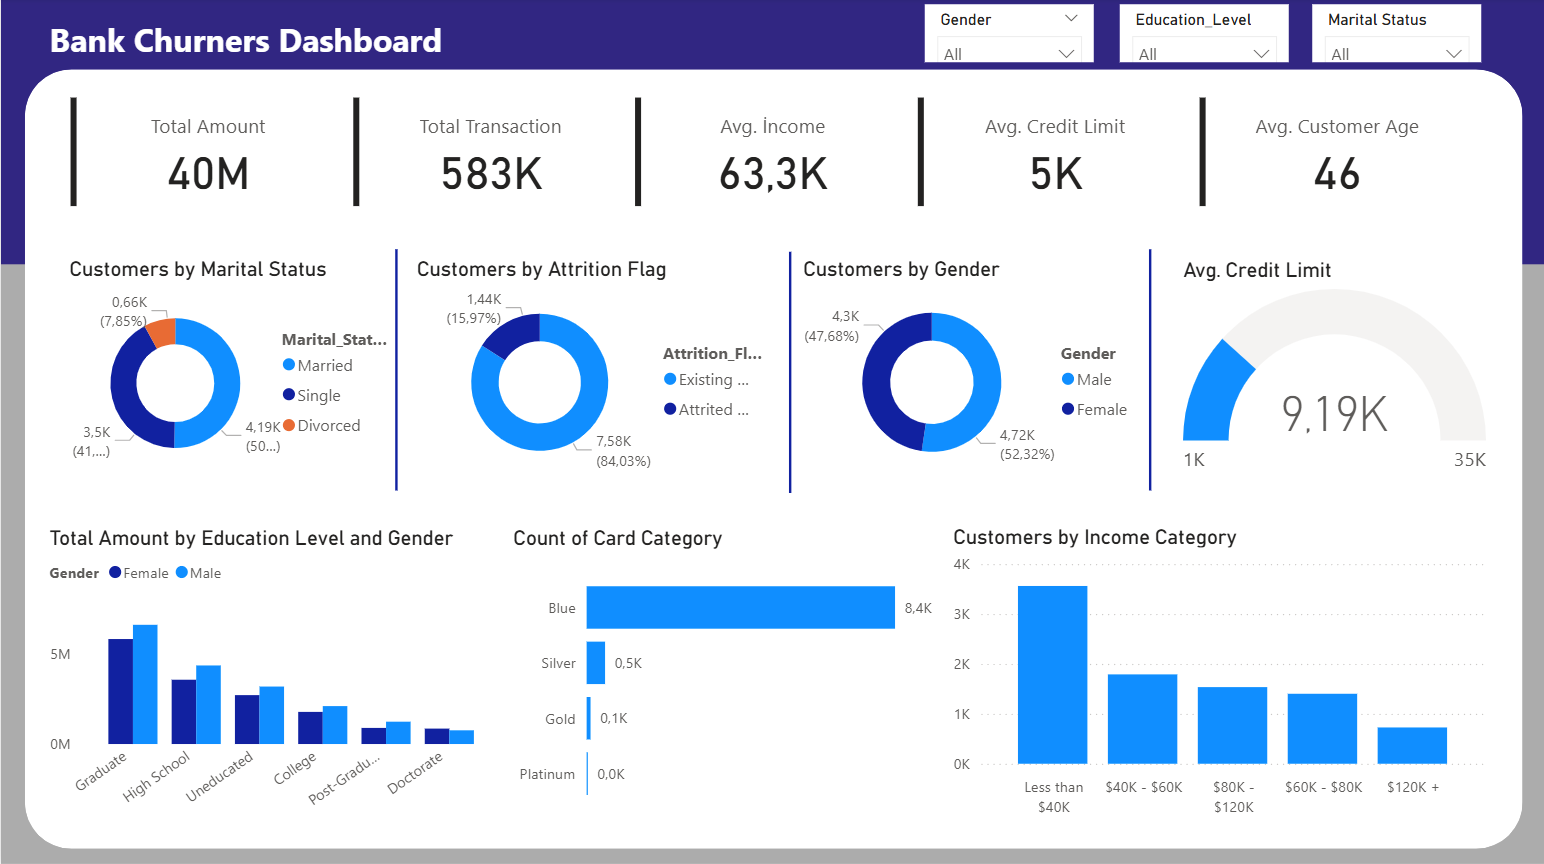

This screenshot's page, from the dashboard's own definition file:
{"tool":"powerbi","page":{"name":"Page 1","canvas":[1280,720],"ordinal":0},"visuals":[{"type":"shape","box":[0,0,1280.3,720.4],"z":0},{"type":"shape","box":[19.2,59,1241.9,646.3],"z":1000},{"type":"textbox","box":[35.7,11,337.6,67.2],"z":2000},{"type":"cardVisual","fields":{"Data":["Sum(BankChurners.Total_Trans_Amt)","Sum(BankChurners.Total_Trans_Ct)","Avg(BankChurners.avg. income)","Median(BankChurners.Credit_Limit)","Avg(BankChurners.Customer_Age)"]},"box":[52.7,78.2,1174.6,100.2],"z":3000},{"type":"donutChart","title":"Customers by Gender","fields":{"Category":["BankChurners.Gender"],"Y":["CountNonNull(BankChurners.Gender)"]},"box":[660,214.1,289.5,189.4],"z":4000},{"type":"donutChart","title":"Customers by Marital Status","fields":{"Category":["BankChurners.Marital_Status"],"Y":["CountNonNull(BankChurners.Marital_Status)"]},"box":[52.1,214.1,275.8,190.7],"z":5000},{"type":"clusteredColumnChart","title":"Total Amount by Education Level and Gender","fields":{"Category":["BankChurners.Education_Level"],"Series":["BankChurners.Gender"],"Y":["Sum(BankChurners.Total_Trans_Amt)"]},"box":[35.7,437.7,384.2,248.4],"z":6000},{"type":"clusteredBarChart","title":"Count of Card Category","fields":{"Category":["BankChurners.Card_Category"],"Y":["CountNonNull(BankChurners.Card_Category)"]},"box":[419.9,437.7,365,248.4],"z":7000},{"type":"columnChart","title":"Customers by Income Category","fields":{"Category":["BankChurners.Income_Category"],"Y":["CountNonNull(BankChurners.Income_Category)"]},"box":[784.9,436.4,451.5,249.7],"z":8000},{"type":"gauge","title":"Avg. Credit Limit","fields":{"Y":["Avg(BankChurners.Credit_Limit)"],"MinValue":["BankChurners.min_limit"],"MaxValue":["BankChurners.max_limit"]},"box":[975.1,215.5,261.1,189.6],"z":9000},{"type":"donutChart","title":"Customers by Attrition Flag","fields":{"Category":["BankChurners.Attrition_Flag"],"Y":["CountNonNull(BankChurners.Attrition_Flag)"]},"box":[340.3,214.1,301.9,189.4],"z":10000},{"type":"shape","box":[178.4,208.6,299.1,200.3],"z":11000},{"type":"shape","box":[505,209.9,299.1,200.3],"z":12000},{"type":"shape","box":[802.7,208.6,299.1,200.3],"z":13000},{"type":"slicer","fields":{"Values":["BankChurners.Gender"]},"box":[765.7,5.5,140,48],"z":14000},{"type":"slicer","fields":{"Values":["BankChurners.Education_Level"]},"box":[927.6,5.5,140,48],"z":15000},{"type":"slicer","fields":{"Values":["BankChurners.Marital_Status"]},"box":[1086.8,5.5,140,48],"z":16000}]}

Visuals, with their boxes in screenshot pixels (x1, y1, x2, y2), scaled from the page's 1280x720 canvas onto the 1544x864 screenshot:
shape: [0,0,1543,863]
shape: [23,71,1521,846]
textbox: [43,13,450,94]
cardVisual - Sum(BankChurners.Total_Trans_Amt) x Sum(BankChurners.Total_Trans_Ct): [64,94,1480,214]
"Customers by Gender" donutChart: [796,257,1145,484]
"Customers by Marital Status" donutChart: [63,257,396,486]
"Total Amount by Education Level and Gender" clusteredColumnChart: [43,525,507,823]
"Count of Card Category" clusteredBarChart: [507,525,947,823]
"Customers by Income Category" columnChart: [947,524,1491,823]
"Avg. Credit Limit" gauge: [1176,259,1491,486]
"Customers by Attrition Flag" donutChart: [410,257,775,484]
shape: [215,250,576,491]
shape: [609,252,970,492]
shape: [968,250,1329,491]
slicer - BankChurners.Gender: [924,7,1093,64]
slicer - BankChurners.Education_Level: [1119,7,1288,64]
slicer - BankChurners.Marital_Status: [1311,7,1480,64]
